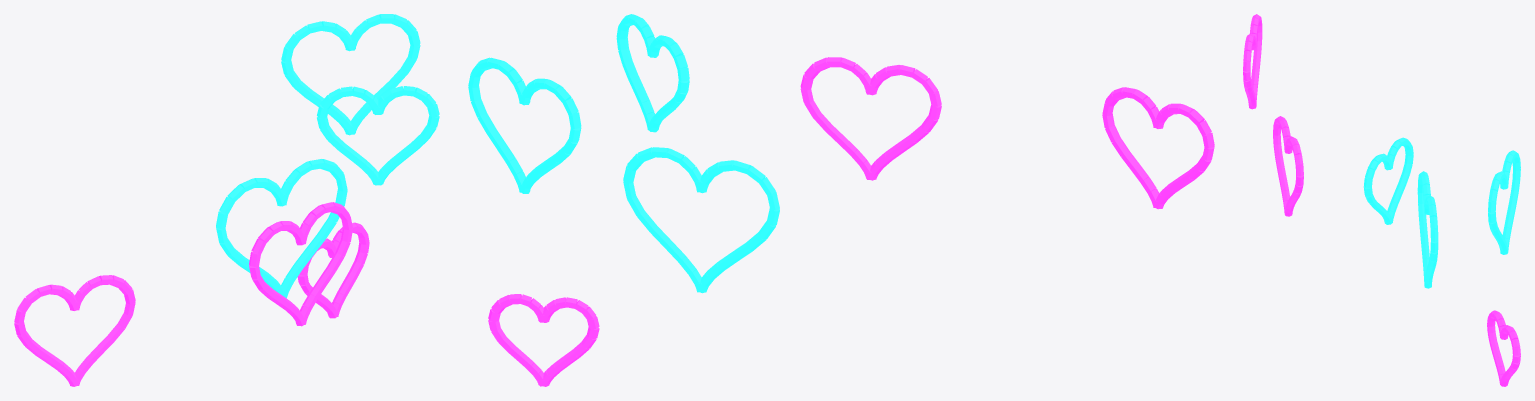
The model's file is rn_holo_hearts.glb.
3 views of the same model, side by side, from view 1: azimuth 30°, elevation 25°; view 2: azimuth 150°, elevation 25°; view 3: azimuth 270°, elevation 25° (orthographic). The views are drawn at different scales.
Visible parts, largest first — view 1: rn_holo_hearts; view 2: rn_holo_hearts; view 3: rn_holo_hearts.
Boxes of the visible parts, x1,y1,x2,y2 form: rn_holo_hearts: (14, 14, 439, 386); rn_holo_hearts: (468, 14, 1214, 386); rn_holo_hearts: (1243, 14, 1520, 386).
Bounding box in the file's own units: 3.65 × 1.85 × 2.04.
Materials: 2 (2 with a texture image).
